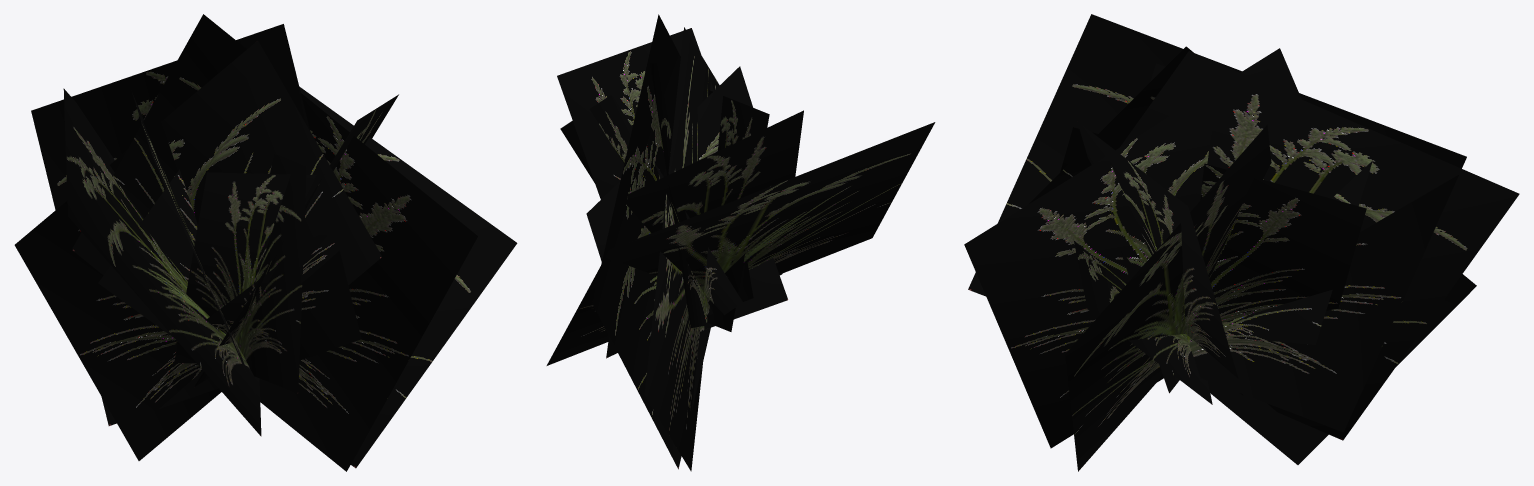
File: Grass_23.fbx
3 renders of one model, left to right at view 1: azimuth 30°, elevation 25°; view 2: azimuth 150°, elevation 25°; view 3: azimuth 270°, elevation 25°, orthographic. The views are drawn at different scales.
Parts seen in each view (by area): view 1: Grass_23; view 2: Grass_23; view 3: Grass_23.
Part boxes in pixels (x1,y1,x2,y2): Grass_23: (14,14,517,471); Grass_23: (546,14,935,471); Grass_23: (964,14,1519,471).
Bounding box in the file's own units: 4660 × 4642 × 5087.
